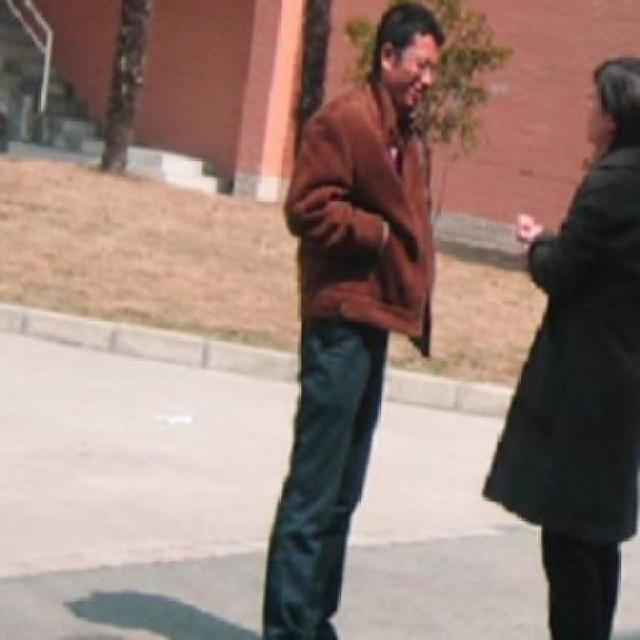Person: (252, 0, 453, 638), (483, 51, 639, 638)
